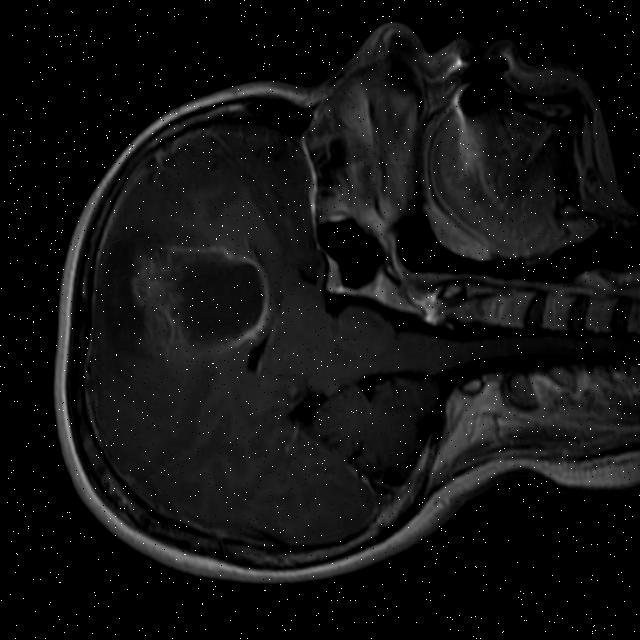Glioma: (123, 220, 281, 368)
